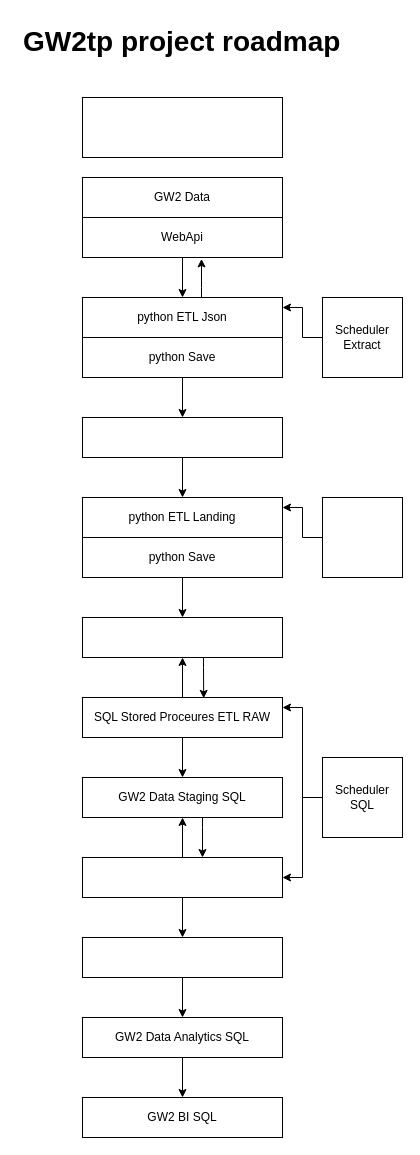
This 420x1155 diagram has some shape labels left out. Each missing label, with the centre of its shape:
"GW2 Data Core SQL" goes at pixel 182 957.
"GW2 Data json" goes at pixel 182 437.
"GW2 Data Landing SQL" goes at pixel 182 637.
"Scheduler Landing" goes at pixel 362 537.
"SQL Stored Proceures ETL Core" goes at pixel 182 877.
"Tech Requrements & Documentation" goes at pixel 182 127.
